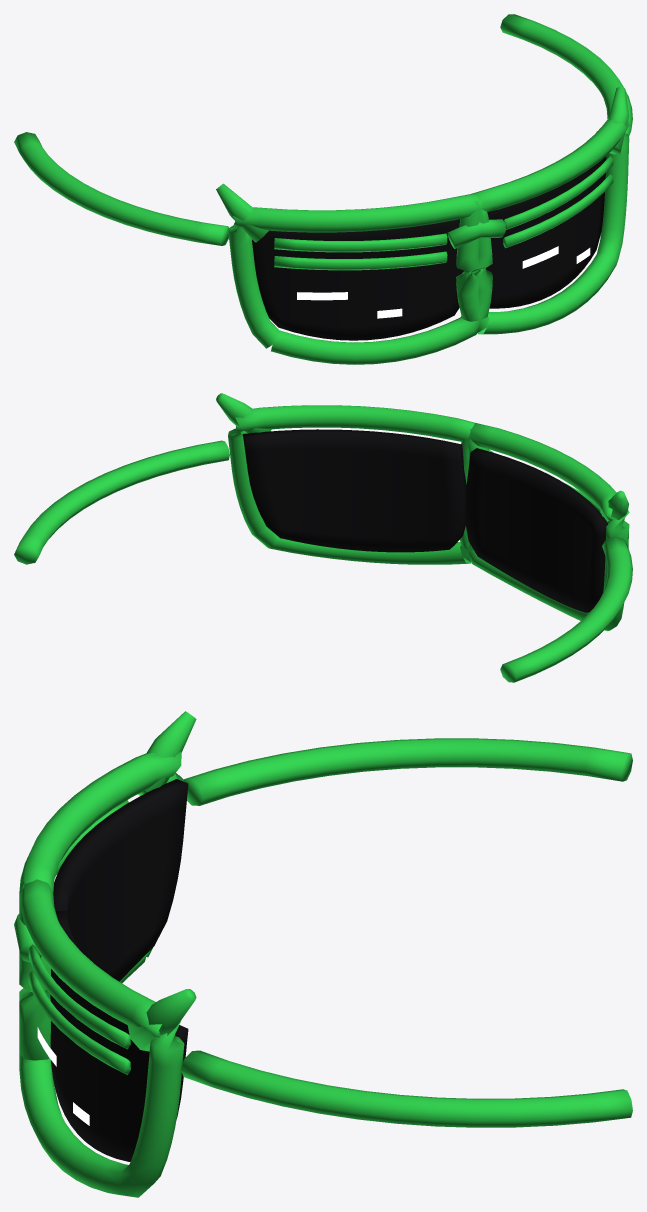
Rendered from gl_bxgreen.glb.
3 views of the same model, one above another, from view 1: azimuth 30°, elevation 25°; view 2: azimuth 150°, elevation 25°; view 3: azimuth 270°, elevation 25° (orthographic). The views are drawn at different scales.
Visible parts, largest first — view 1: gl_green_frame, gl_green_lens, gl_green_shine; view 2: gl_green_lens, gl_green_frame; view 3: gl_green_frame, gl_green_lens.
Part boxes in pixels (x1,y1,x2,y2): gl_green_frame: [14, 14, 632, 364]; gl_green_lens: [252, 156, 606, 340]; gl_green_shine: [297, 246, 590, 318]; gl_green_lens: [242, 429, 607, 612]; gl_green_frame: [14, 393, 632, 682]; gl_green_frame: [14, 711, 632, 1197]; gl_green_lens: [50, 779, 188, 1161].
Bounding box in the file's own units: 2.2 × 0.6796 × 1.53.
